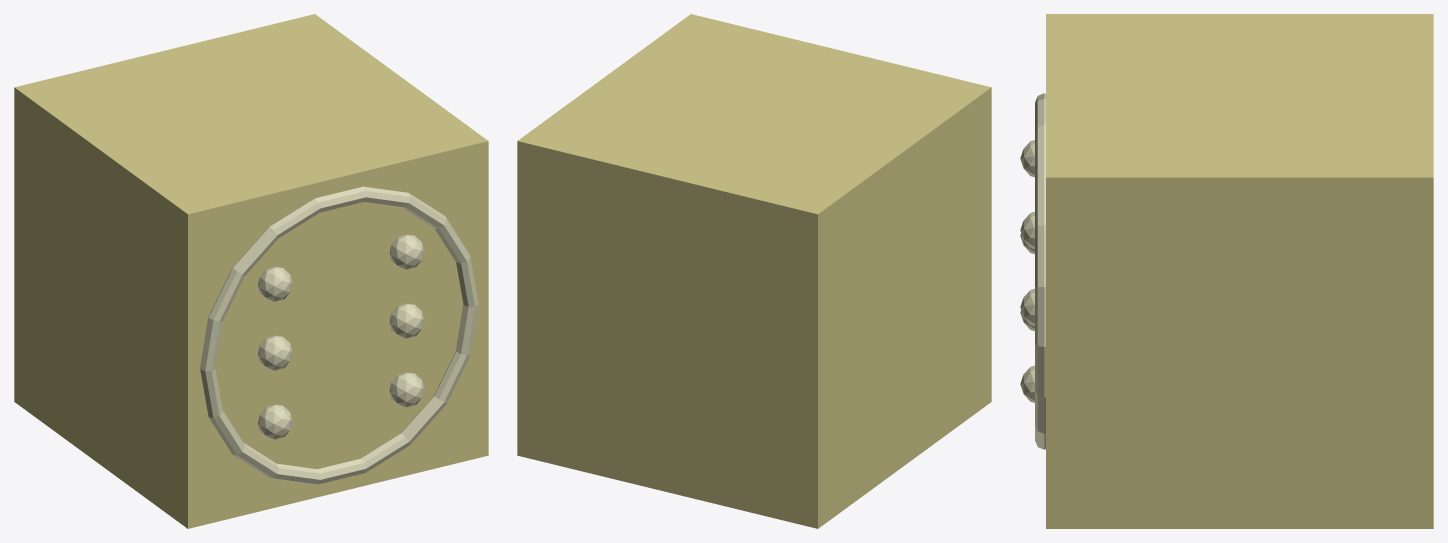
Rendered from licht.glb.
The picture shows the model from 3 angles, left to right: view 1: azimuth 30°, elevation 25°; view 2: azimuth 150°, elevation 25°; view 3: azimuth 270°, elevation 25°; orthographic projection. The views are drawn at different scales.
Visible parts, largest first — view 1: world; view 2: world; view 3: world.
Part boxes in pixels (bbox=[...]): world: bbox=[14, 14, 488, 528]; world: bbox=[517, 14, 991, 528]; world: bbox=[1020, 14, 1433, 528].
Bounding box in the file's own units: 1.05 × 1.05 × 1.12.
